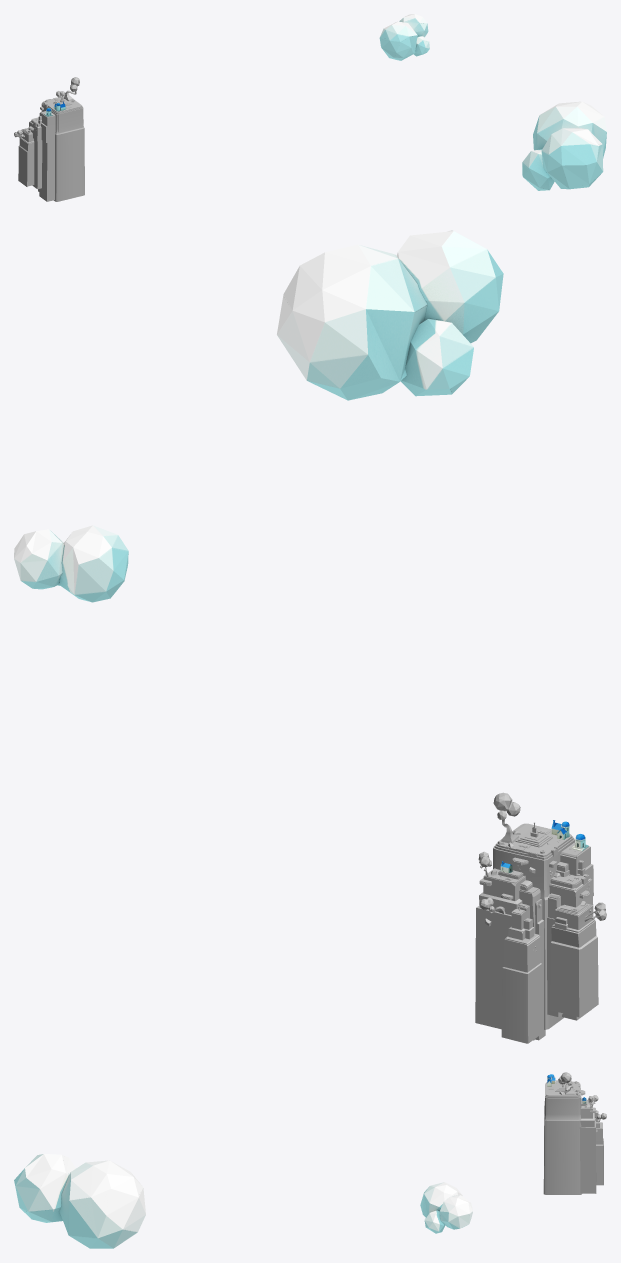
3 renders of one model, top to bottom at view 1: azimuth 30°, elevation 25°; view 2: azimuth 150°, elevation 25°; view 3: azimuth 270°, elevation 25°, orthographic. The views are drawn at different scales.
Visible parts, largest first — view 1: SM_Clouds_2_0, SM_Mounain_Cloud_0; view 2: SM_Clouds_2_0, SM_Mounain_Cloud_0; view 3: SM_Clouds_2_0, SM_Mounain_Cloud_0.
Boxes of the visible parts, <box> form: SM_Clouds_2_0: <box>379,14,606,190</box>; SM_Mounain_Cloud_0: <box>14,77,84,201</box>; SM_Clouds_2_0: <box>14,230,503,602</box>; SM_Mounain_Cloud_0: <box>475,792,606,1043</box>; SM_Clouds_2_0: <box>14,1154,472,1248</box>; SM_Mounain_Cloud_0: <box>543,1072,606,1194</box>.
Bounding box in the file's own units: 17.24 × 7.43 × 21.11.
